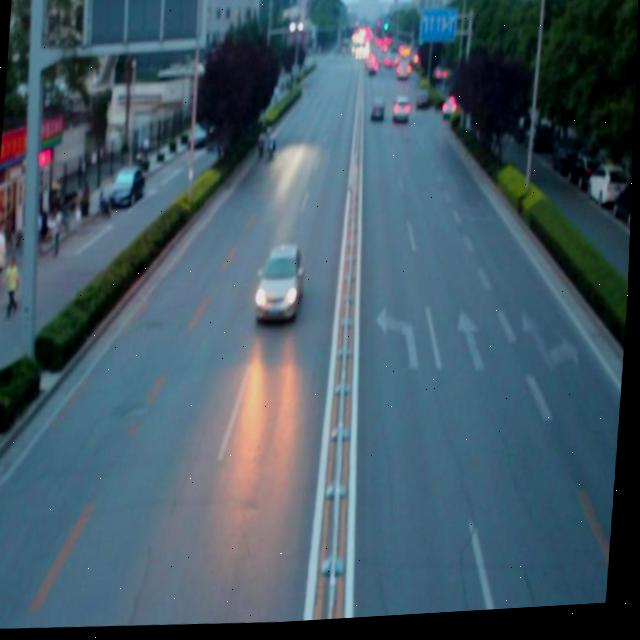car: (253, 245, 307, 325)
